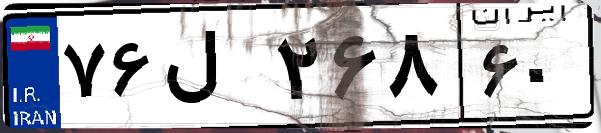0: (525, 38, 570, 115)
2: (270, 28, 330, 110)
6: (330, 28, 385, 110), (475, 38, 525, 113), (110, 28, 158, 98)
7: (57, 26, 110, 100)
8: (385, 28, 445, 110)
ل: (158, 20, 270, 120)
